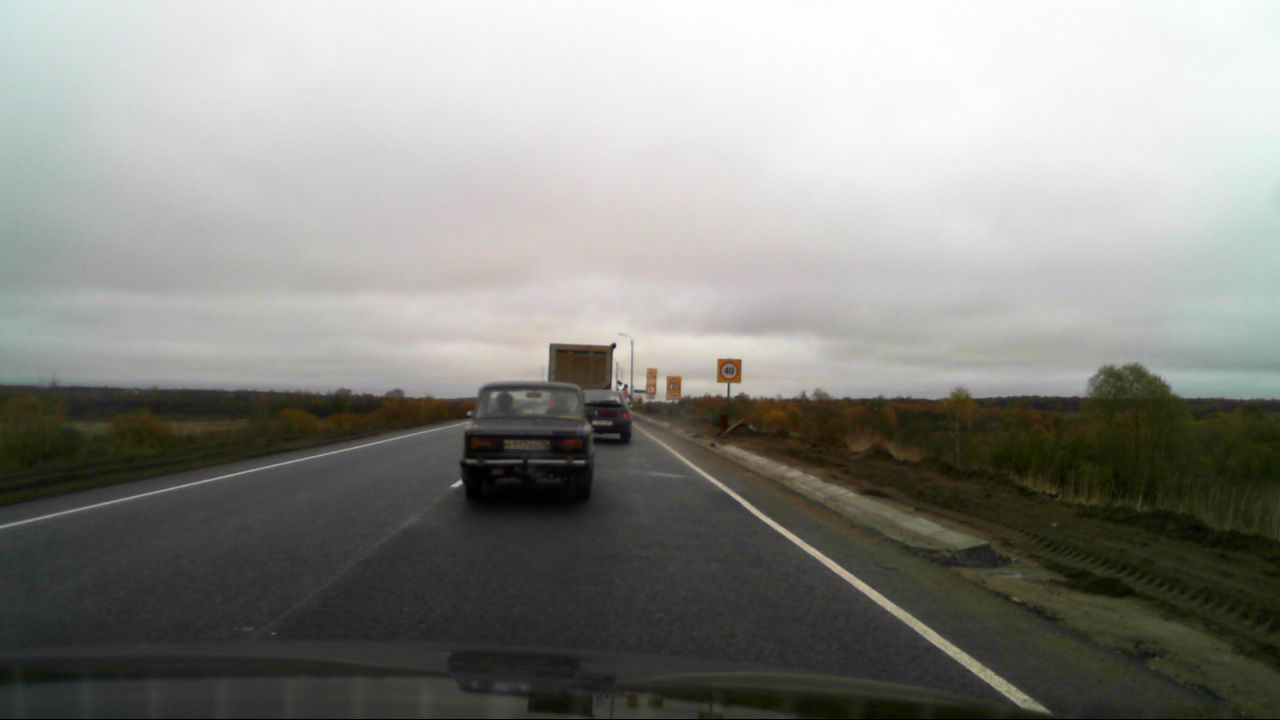speed_warning_40: (717, 358, 741, 382)
